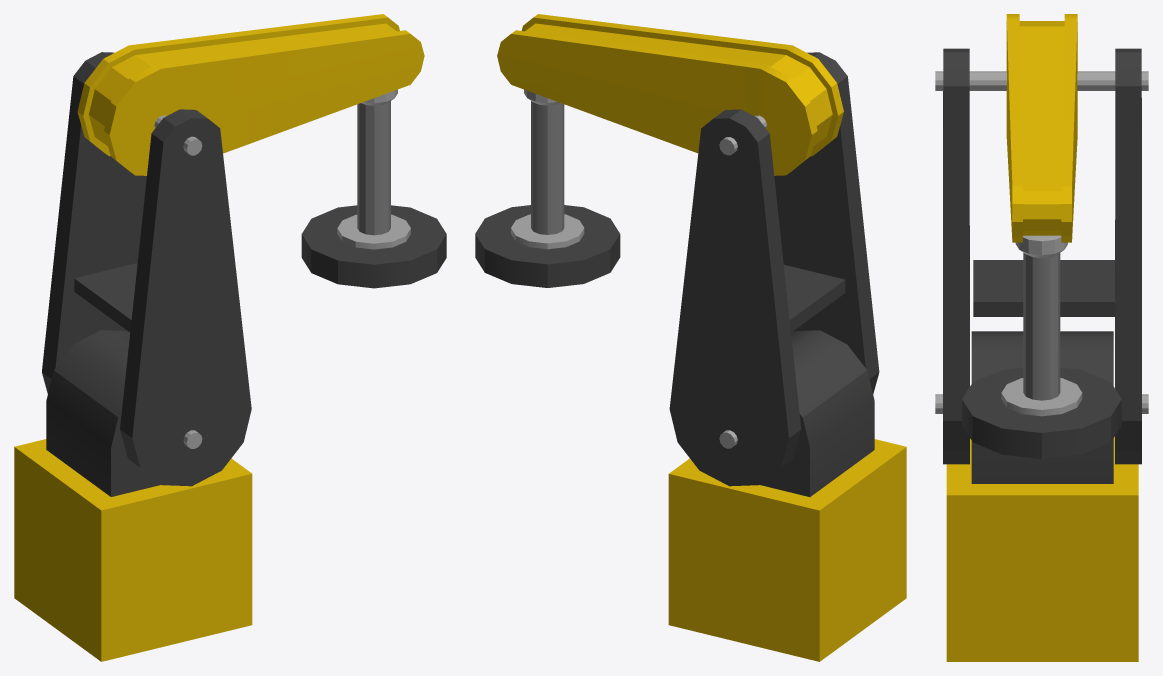
File: machine_ ecrase.fbx
3 views of the same model, side by side, from view 1: azimuth 30°, elevation 25°; view 2: azimuth 150°, elevation 25°; view 3: azimuth 270°, elevation 25° (orthographic). The views are drawn at different scales.
Visible parts, largest first — view 1: support, ecraseur; view 2: support, ecraseur; view 3: support, ecraseur.
Part boxes in pixels (box(x1,y1,x2,y2)): support: box(14, 52, 252, 661); ecraseur: box(77, 14, 446, 288); support: box(668, 52, 906, 661); ecraseur: box(475, 14, 843, 287); support: box(935, 48, 1148, 661); ecraseur: box(962, 14, 1121, 458).
Bounding box in the file's own units: 2.51 × 3.49 × 1.11.
